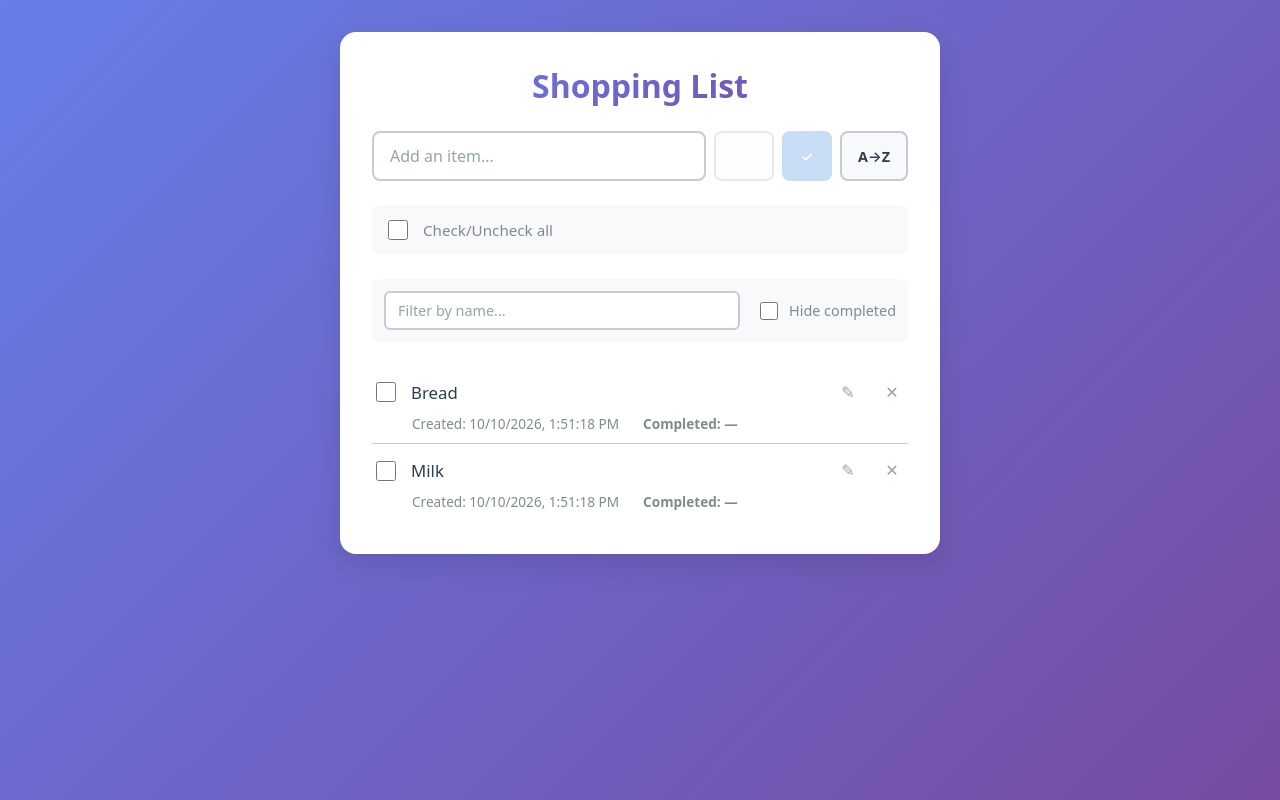
Test: App › clears previous toast when a new duplicate is detected
The image size is (1280, 800).
Type "Milk" into the field with placeholder "Add an item..." at (539, 156), box 372,131 -> 706,181
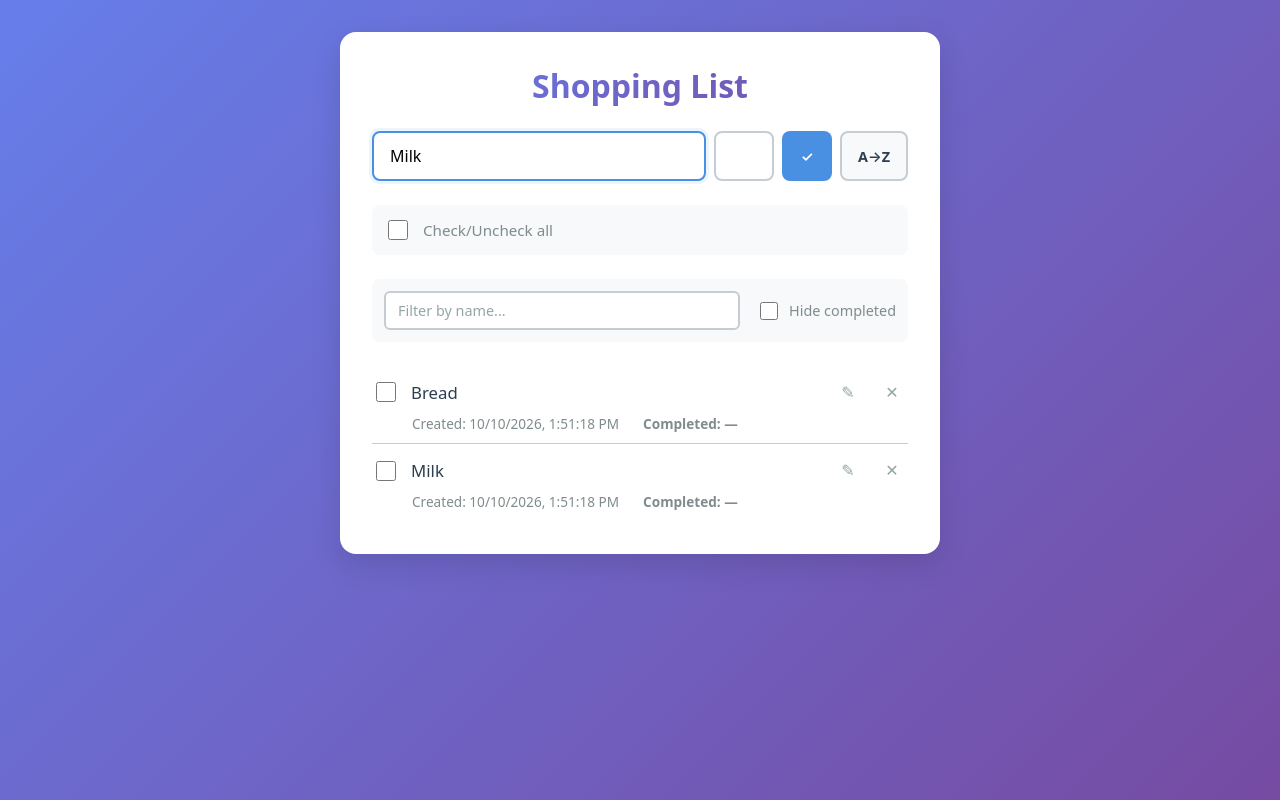
Click the button "✓" at (807, 156), box 782,131 -> 832,181
Wait 2700 ms
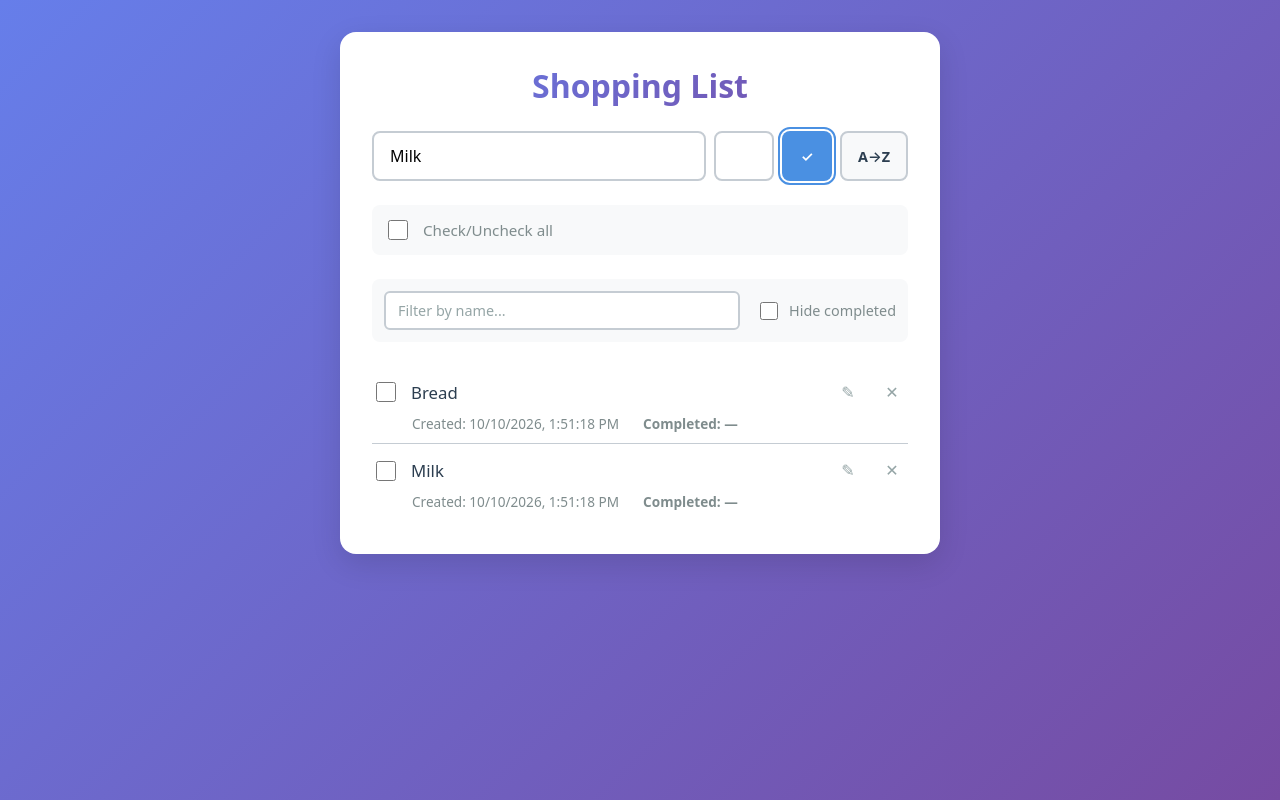
Replace the text in the 1st field with "Bread" at (539, 156), box 372,131 -> 706,181
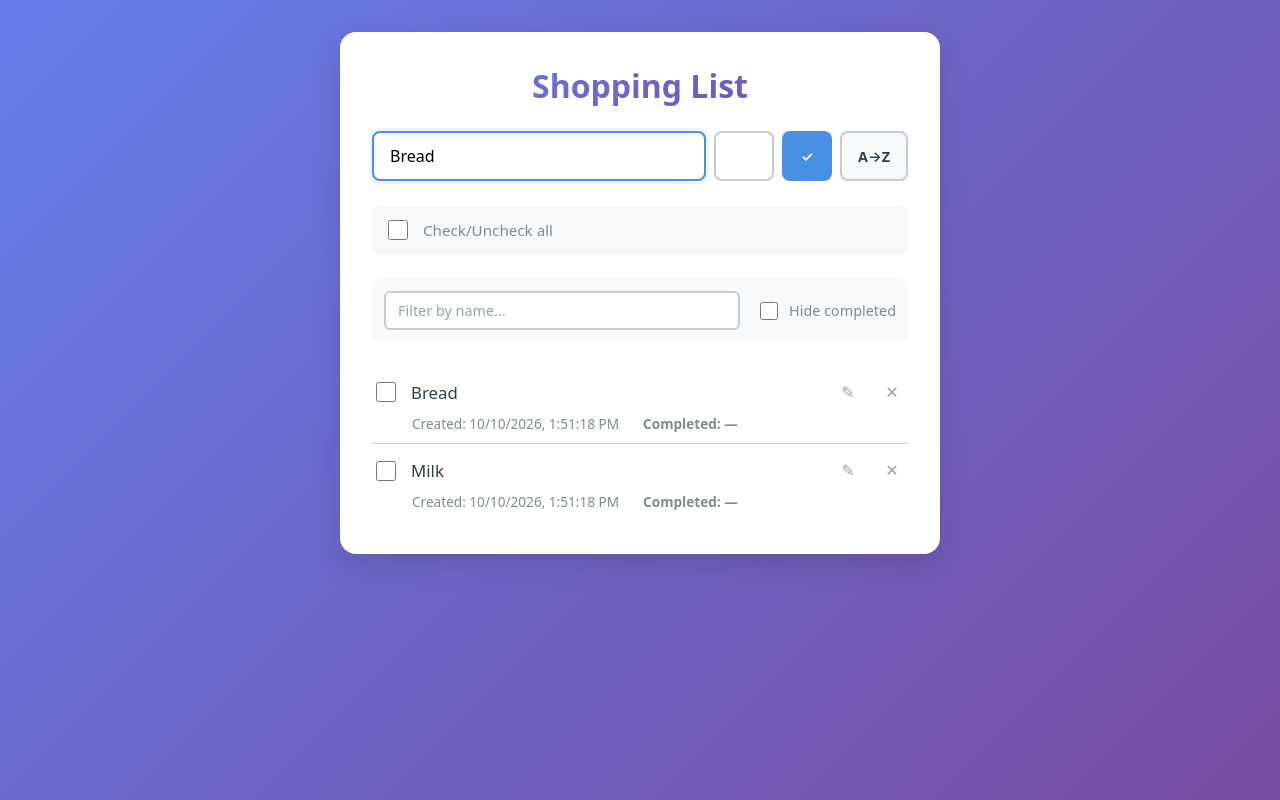
Click the button "✓" at (807, 156), box 782,131 -> 832,181
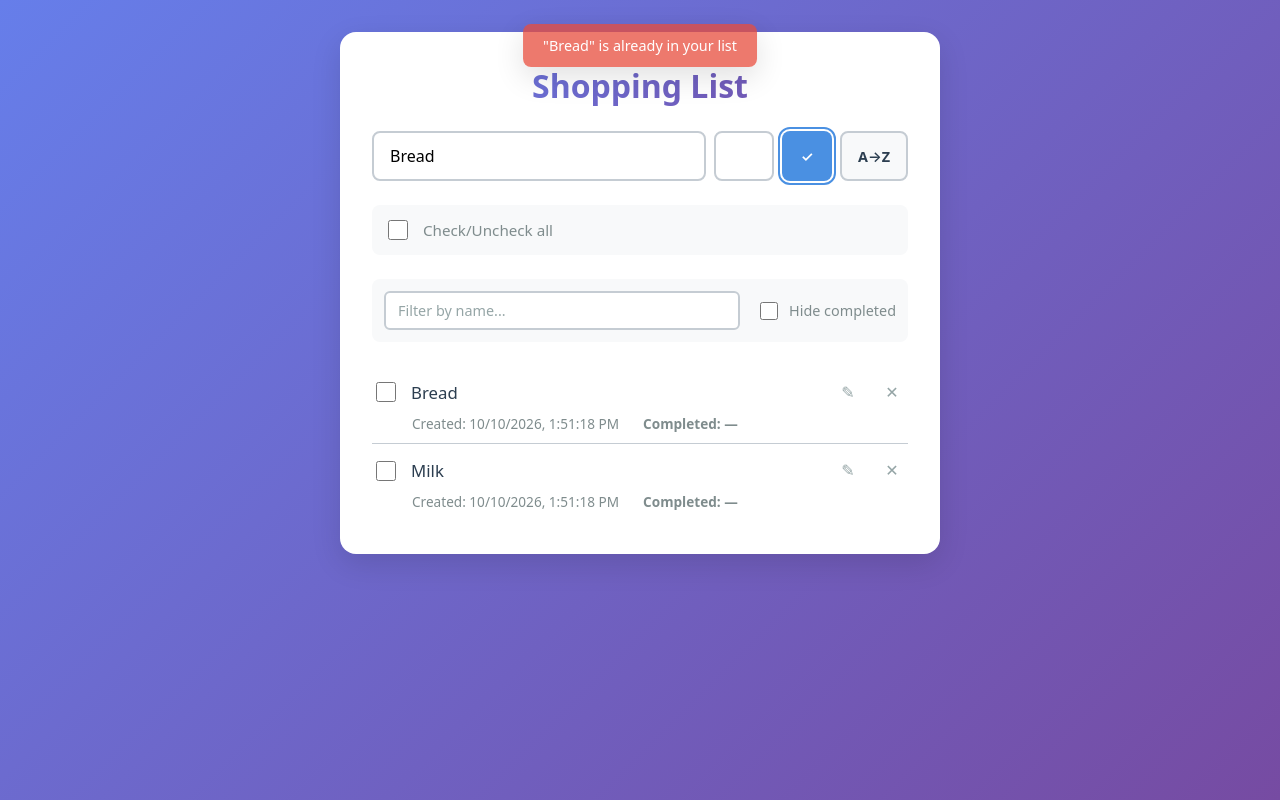
Result: the text "\"Bread\" is already in your list" is shown at 523,24 -> 757,67
